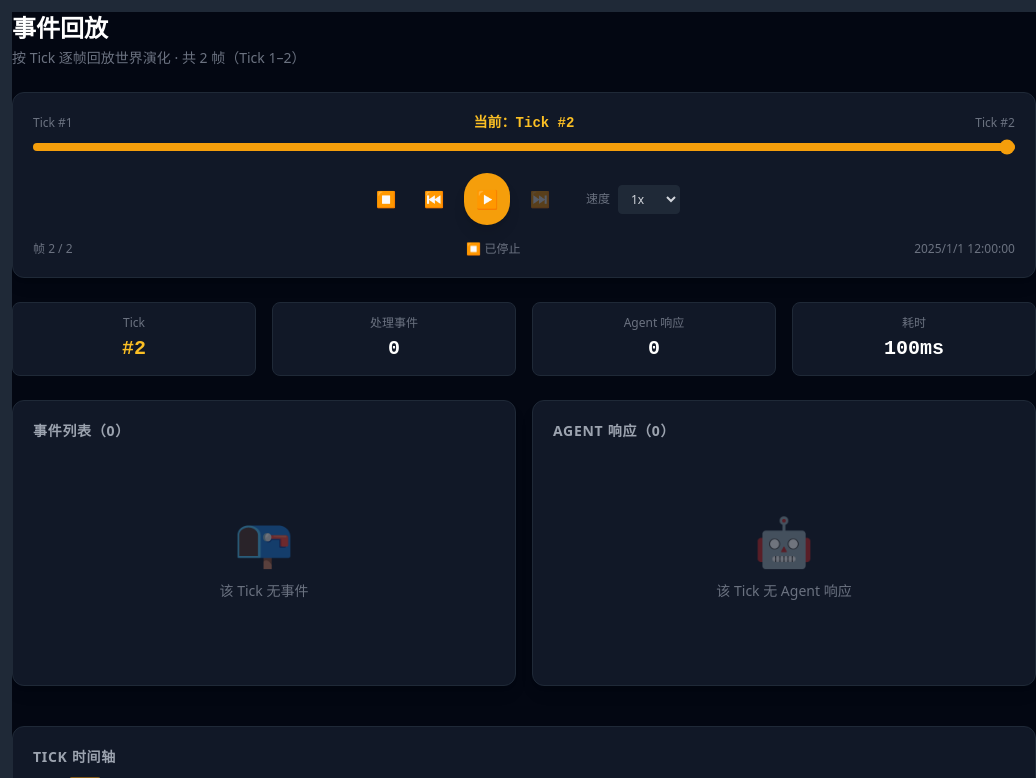
Test: TimelineReplay › 点击暂停后应恢复播放按钮
Click the button with test id "btn-play" at (487,199), box [464,173,510,225]
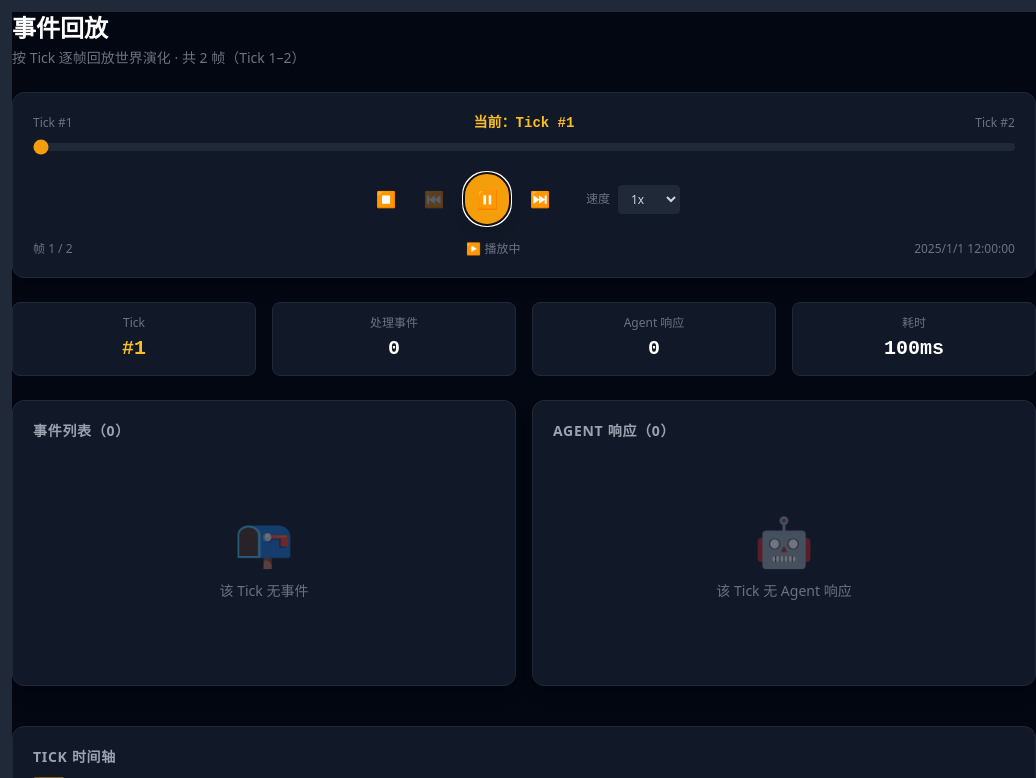
Click the button with test id "btn-pause" at (487,199), box [464,173,510,225]
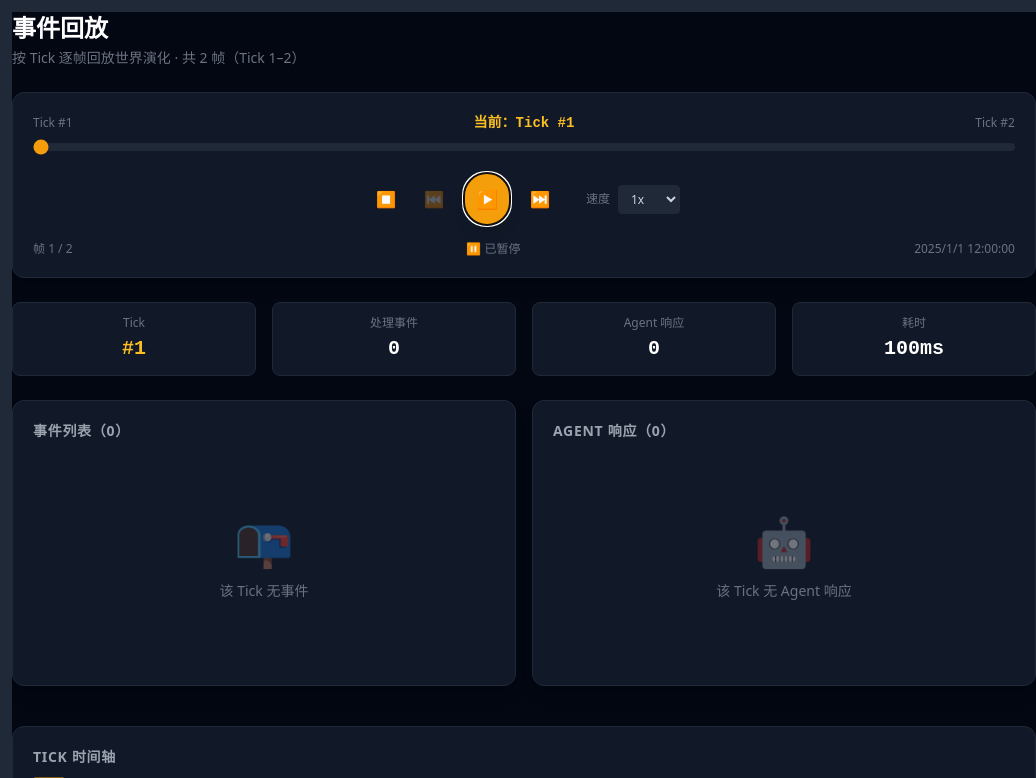
Check: the button with test id "btn-play" is shown, box [464,173,510,225]
